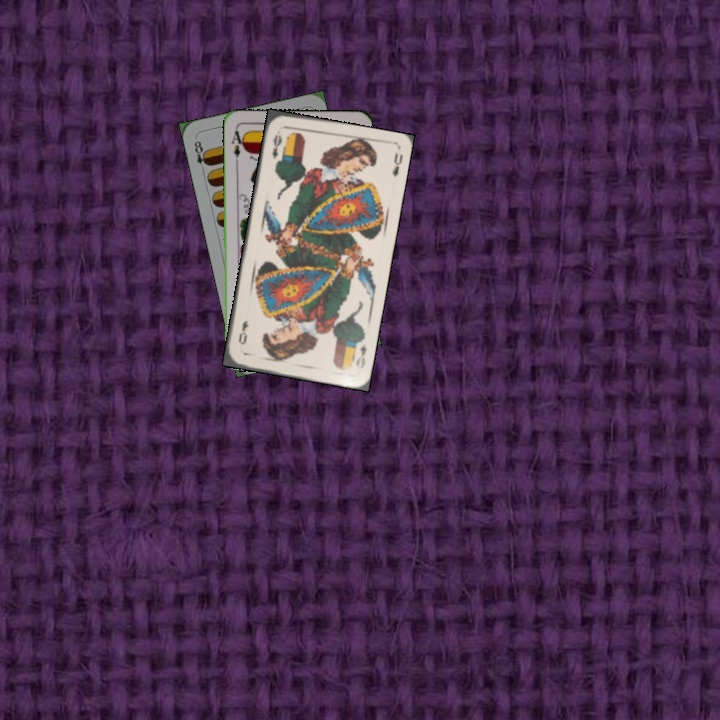E8: (190, 137, 211, 175)
EA: (227, 125, 246, 165)
EO: (268, 126, 285, 161), (352, 340, 369, 370)
